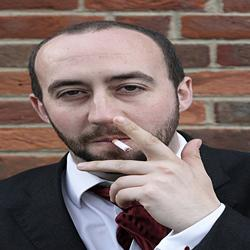smoking: (91, 134, 135, 155)
